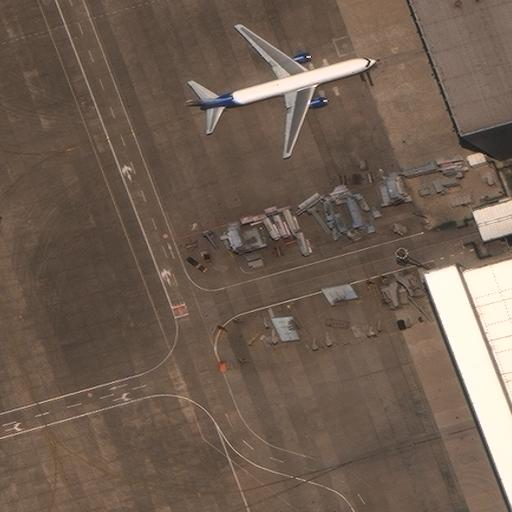Large Civil Transport: (194, 21, 378, 158)
